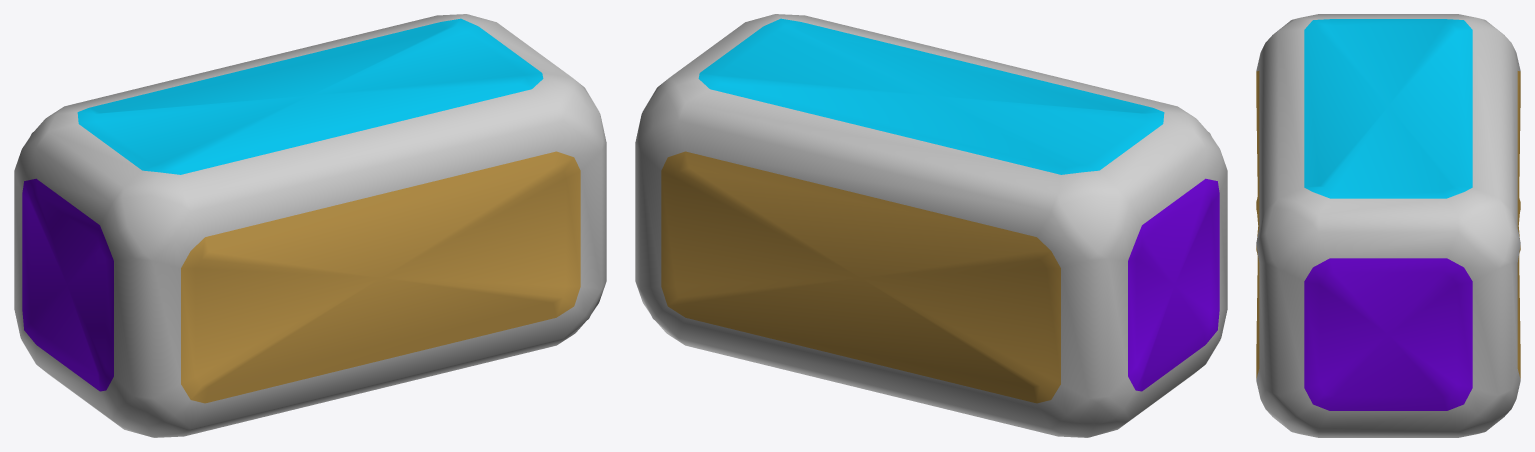
File: D_FBX_15_Stick.fbx
3 views of the same model, side by side, from view 1: azimuth 30°, elevation 25°; view 2: azimuth 150°, elevation 25°; view 3: azimuth 270°, elevation 25° (orthographic). The views are drawn at different scales.
Parts seen in each view (by area): view 1: D_FBX_15_Stick; view 2: D_FBX_15_Stick; view 3: D_FBX_15_Stick.
Boxes of the visible parts, x1=… form: D_FBX_15_Stick: x1=14, y1=14, x2=606, y2=437; D_FBX_15_Stick: x1=635, y1=14, x2=1227, y2=437; D_FBX_15_Stick: x1=1256, y1=14, x2=1520, y2=437.
Bounding box in the file's own units: 203 × 103 × 103.
